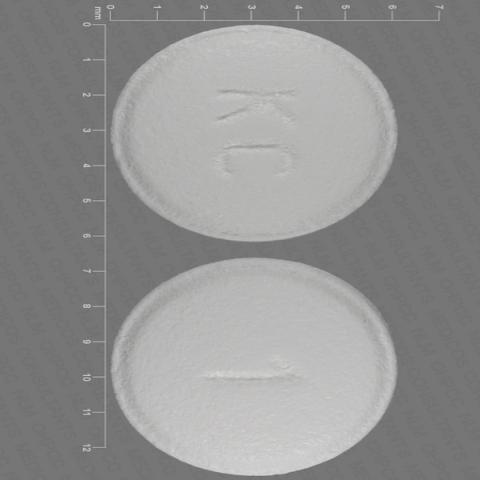Pill: (103, 26, 437, 251), (104, 242, 407, 480)
